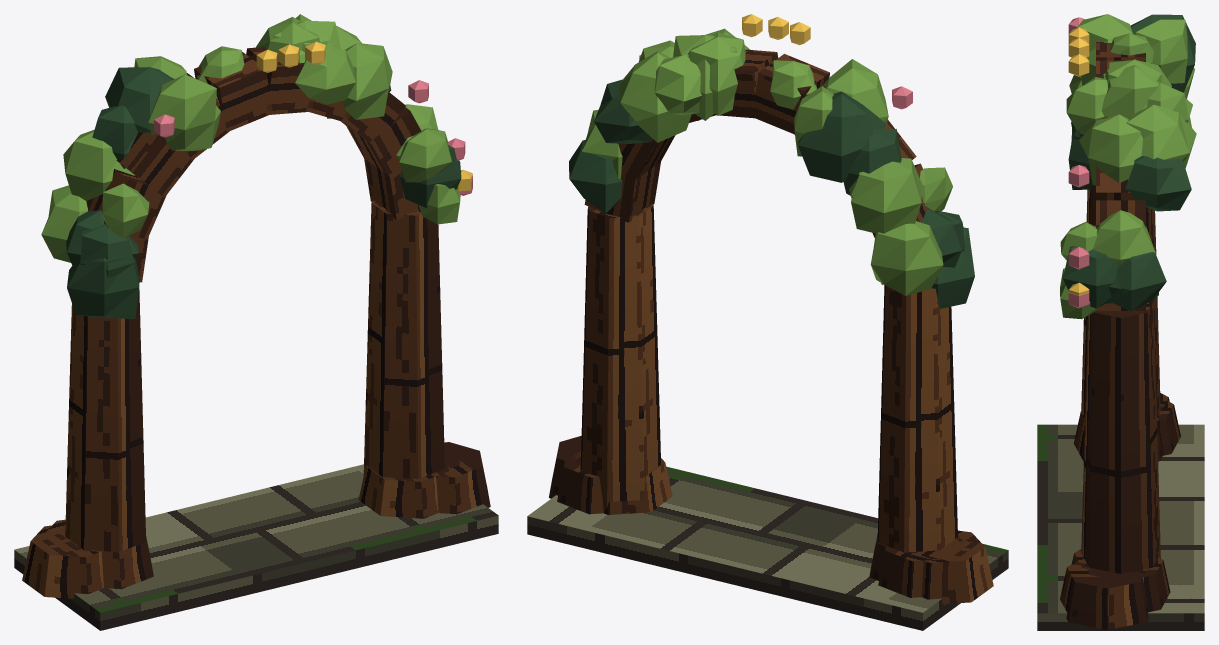
File: vine_arch.glb
3 renders of one model, left to right at view 1: azimuth 30°, elevation 25°; view 2: azimuth 150°, elevation 25°; view 3: azimuth 270°, elevation 25°, orthographic. The views are drawn at different scales.
Parts seen in each view (by area): view 1: vine_arch; view 2: vine_arch; view 3: vine_arch.
Boxes of the visible parts, box(x1,y1,x2,y2) form: vine_arch: box(14, 14, 498, 630); vine_arch: box(527, 14, 1008, 630); vine_arch: box(1037, 14, 1204, 630).
Bounding box in the file's own units: 3.56 × 3.99 × 1.2.
Materials: 3 (2 with a texture image).
